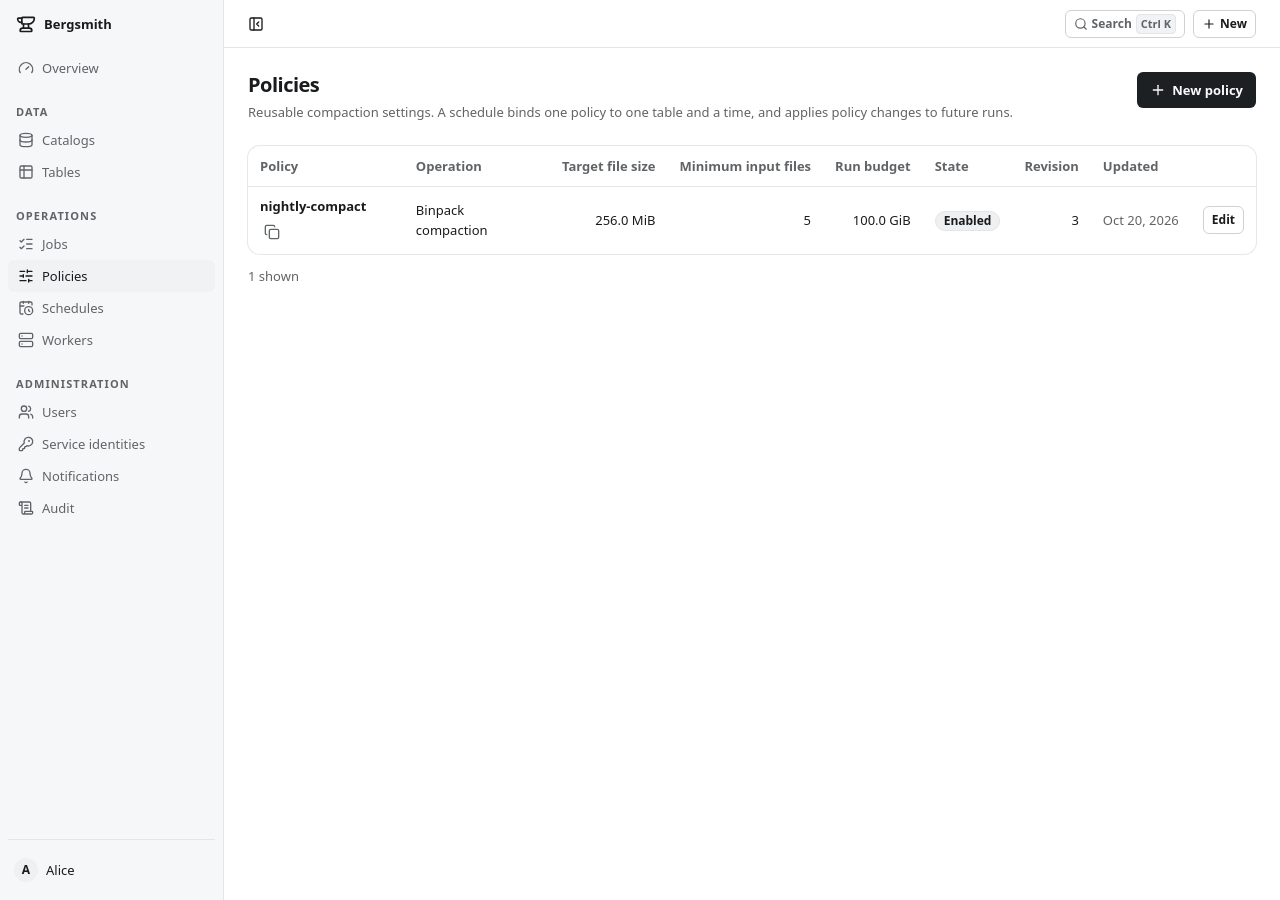
Test: edits only changed fields, naming the revision it read
Click the button with aria-label "Edit nightly-compact" at [1223, 220], box [1203,206,1244,234]
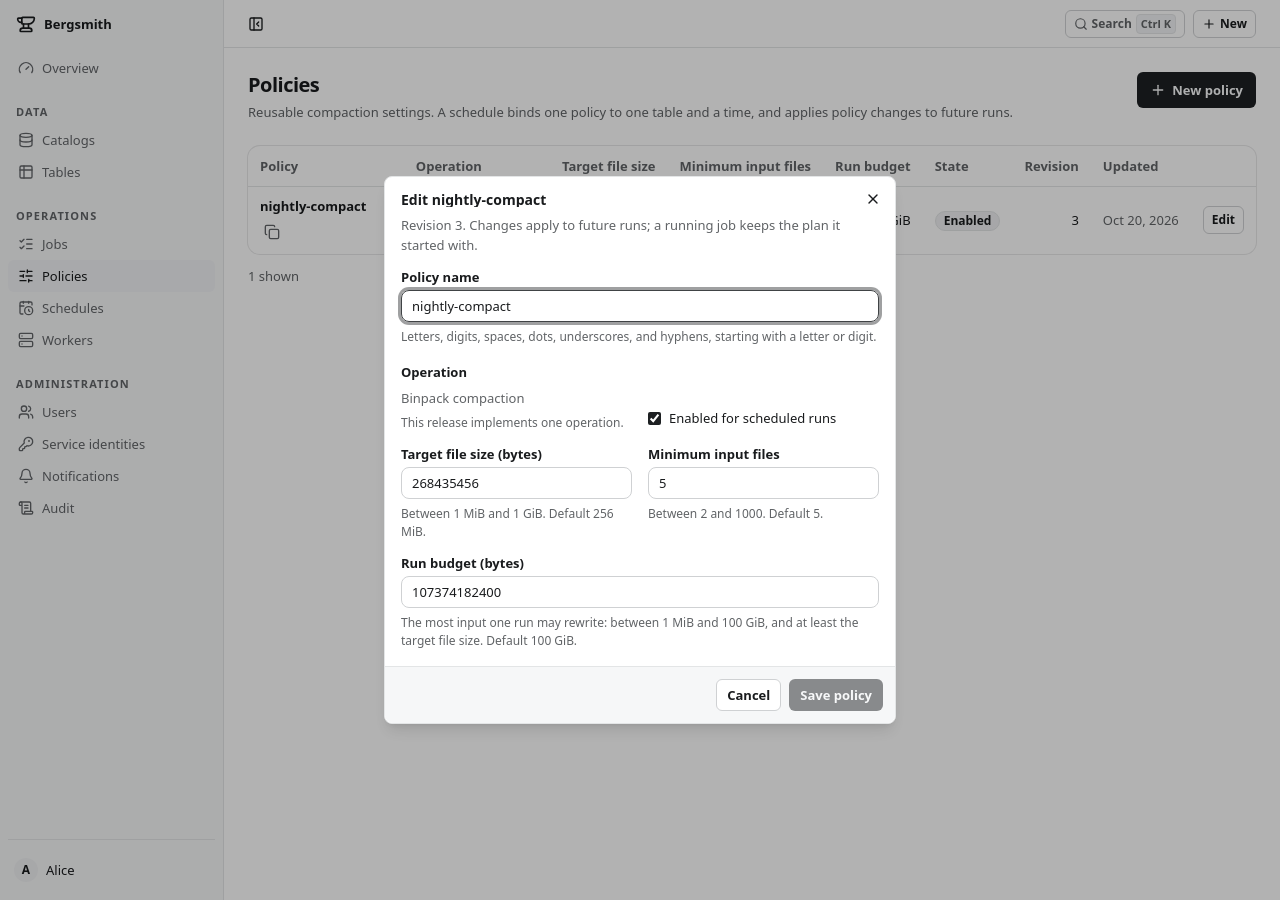
Result: the heading "Edit nightly-compact" is shown at [401,190,546,209]
Result: the button "Save policy" is disabled at [789,679,883,711]
Replace the text in the number field labelled "Target file size (bytes)" with "536870912" at [516, 483], box [401,467,632,499]
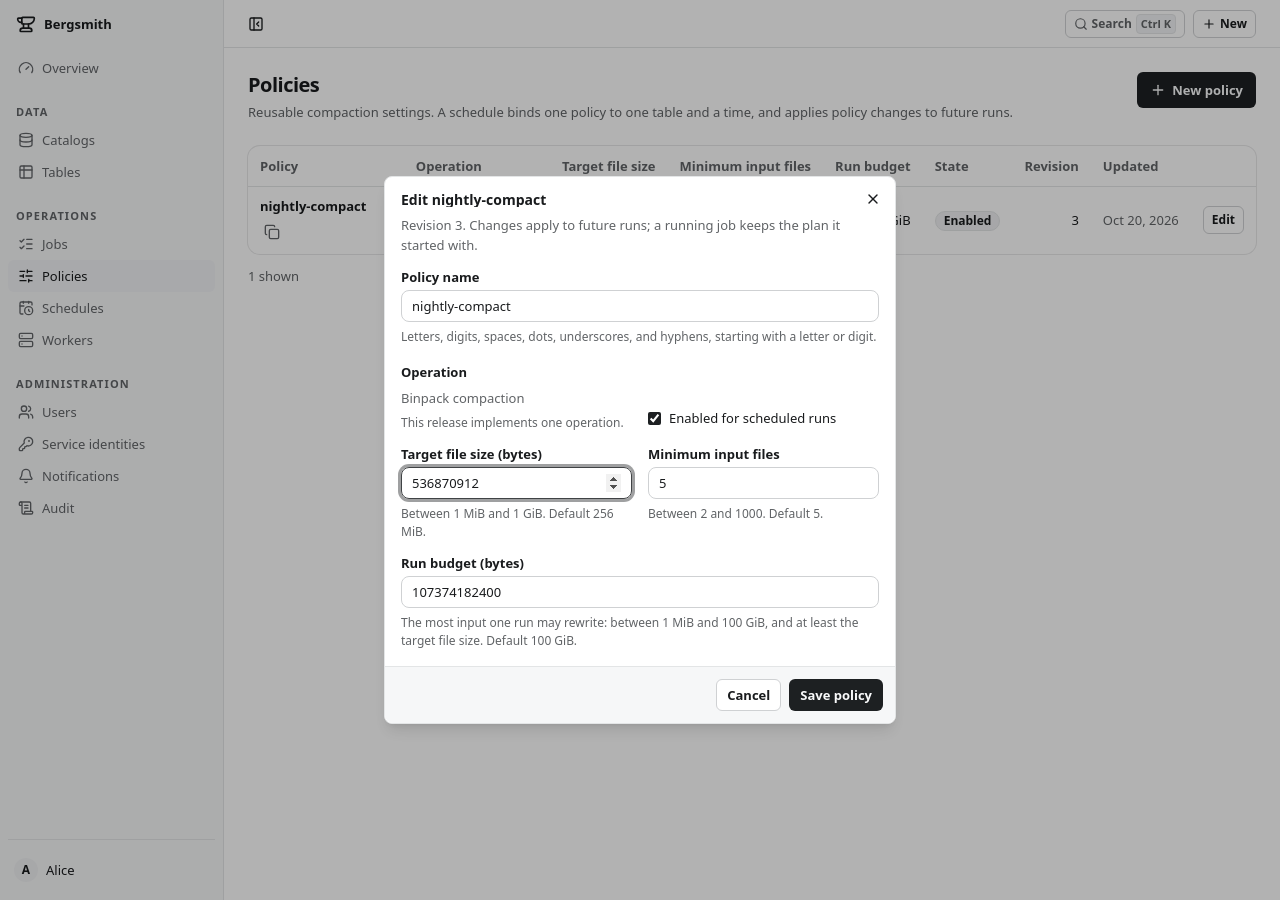
Click the button "Save policy" at [836, 695], box [789,679,883,711]
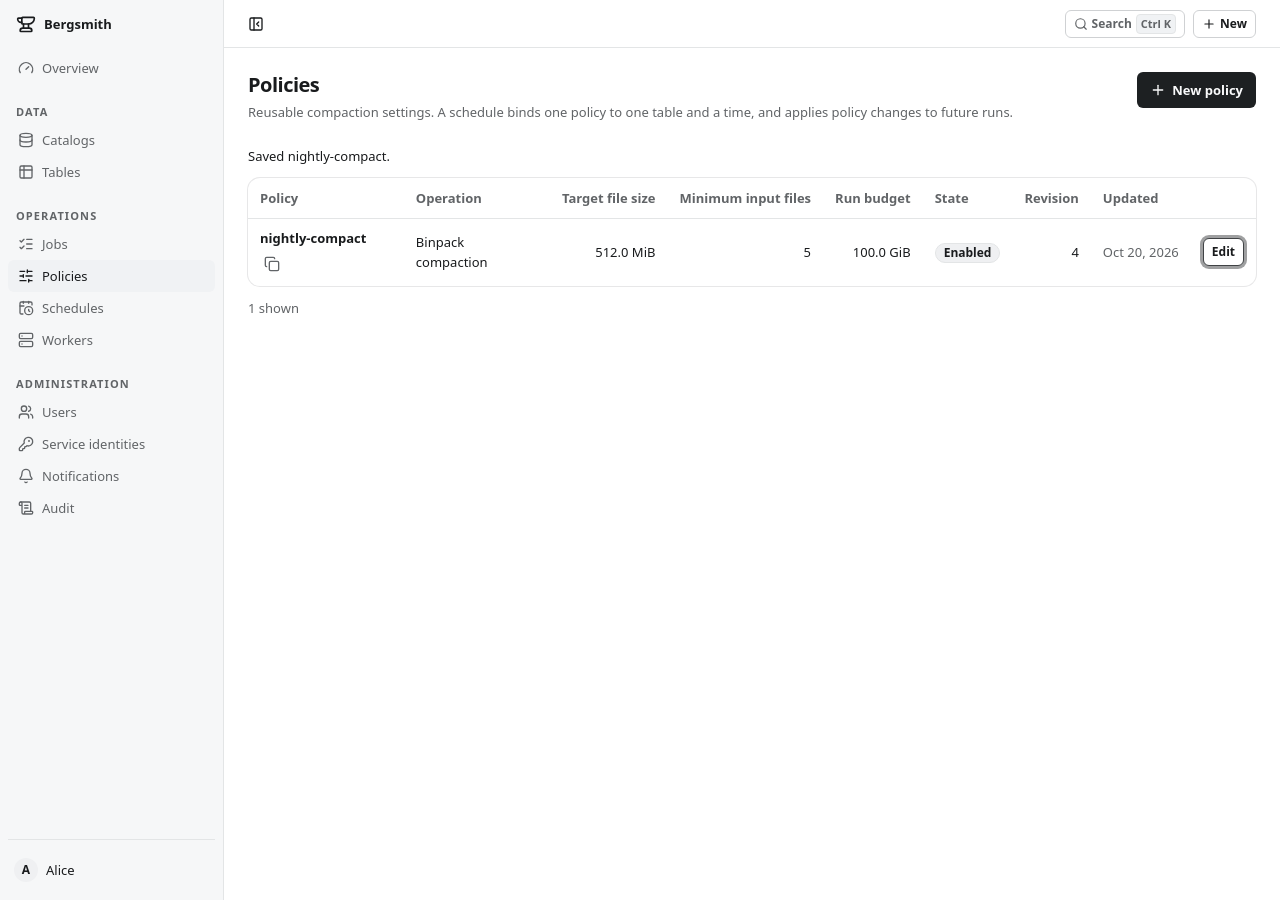
Result: the heading "Edit nightly-compact" is gone
Result: the text "Saved nightly-compact." is shown at [248,147,390,165]
Result: the text "512.0 MiB" is shown at [595,243,656,261]
